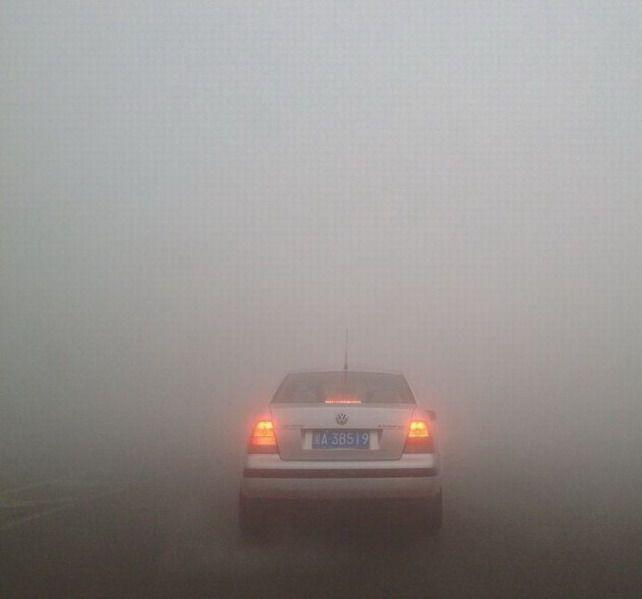car: (234, 364, 444, 534)
